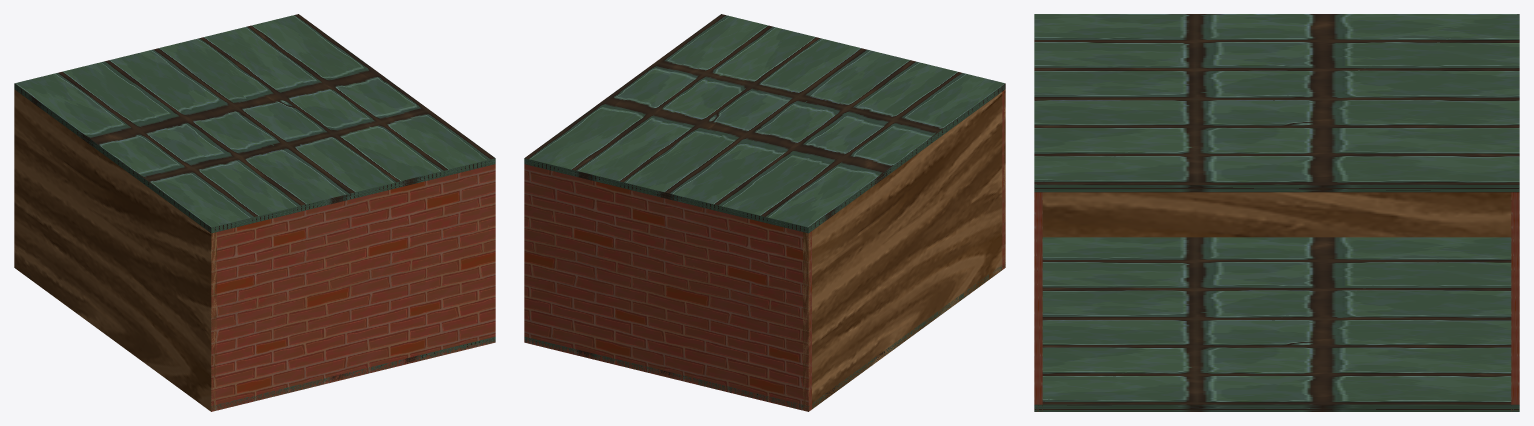
The model's file is MedRoomBase.glb.
3 views of the same model, side by side, from view 1: azimuth 30°, elevation 25°; view 2: azimuth 150°, elevation 25°; view 3: azimuth 270°, elevation 25° (orthographic). The views are drawn at different scales.
Parts seen in each view (by area): view 1: Ceiling.001, Left.001, Back.001, Floor.001; view 2: Ceiling.001, Right.001, Back.001, Floor.001, Left.001; view 3: Ceiling.001, Floor.001, Back.001, Left.001, Right.001.
Boxes of the visible parts, x1,y1,x2,y2 form: Ceiling.001: [14, 14, 495, 233]; Left.001: [211, 164, 495, 411]; Back.001: [14, 89, 216, 411]; Floor.001: [15, 264, 495, 410]; Ceiling.001: [524, 14, 1005, 233]; Right.001: [524, 164, 811, 411]; Back.001: [803, 89, 1005, 410]; Floor.001: [524, 262, 1005, 411]; Left.001: [1002, 90, 1005, 269]; Ceiling.001: [1034, 14, 1519, 192]; Floor.001: [1034, 237, 1519, 411]; Back.001: [1042, 192, 1511, 237]; Left.001: [1034, 192, 1042, 411]; Right.001: [1511, 192, 1519, 411].
Bounding box in the file's own units: 5 × 3.1 × 6.
Materials: 3 (3 with a texture image).
